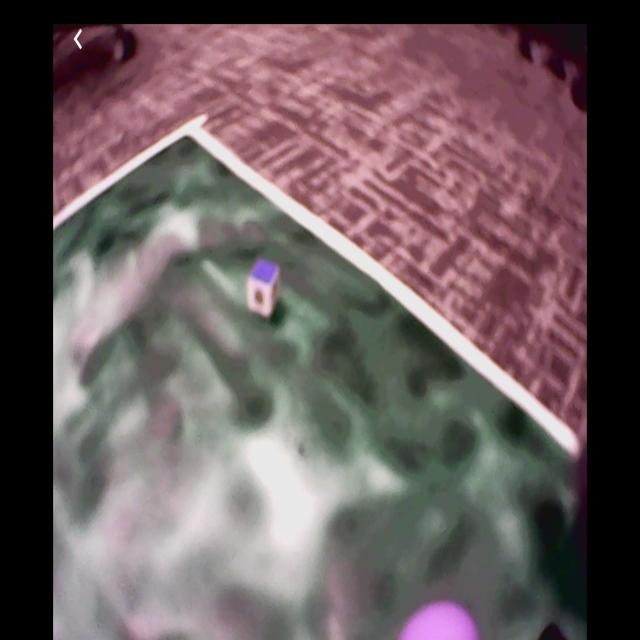ball: (399, 603, 481, 640)
